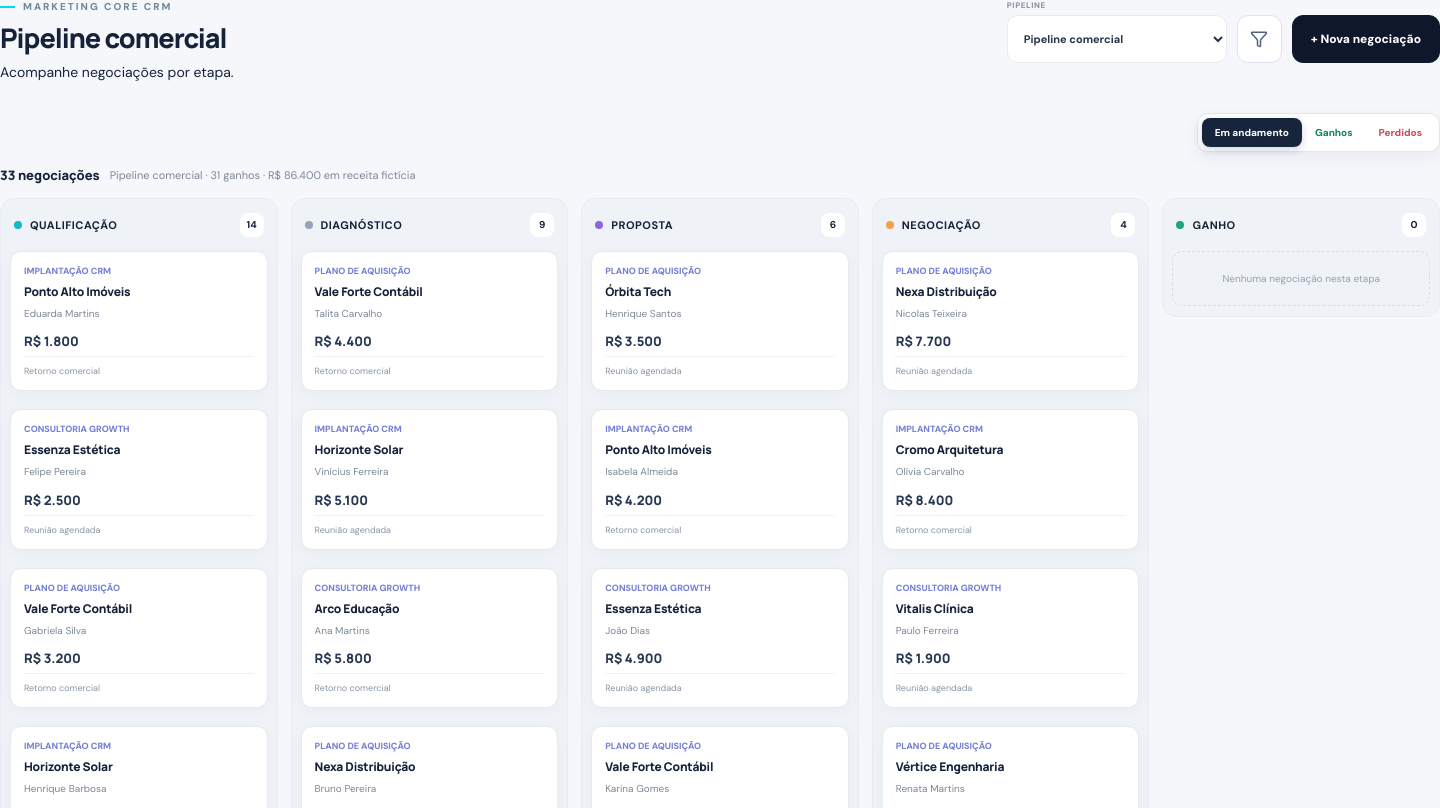
configuração de pipelines › cria um novo lead automaticamente quando telefone e e-mail não existem
Click the button "+ Nova negociação" at (1366, 39), box [1292, 15, 1439, 63]
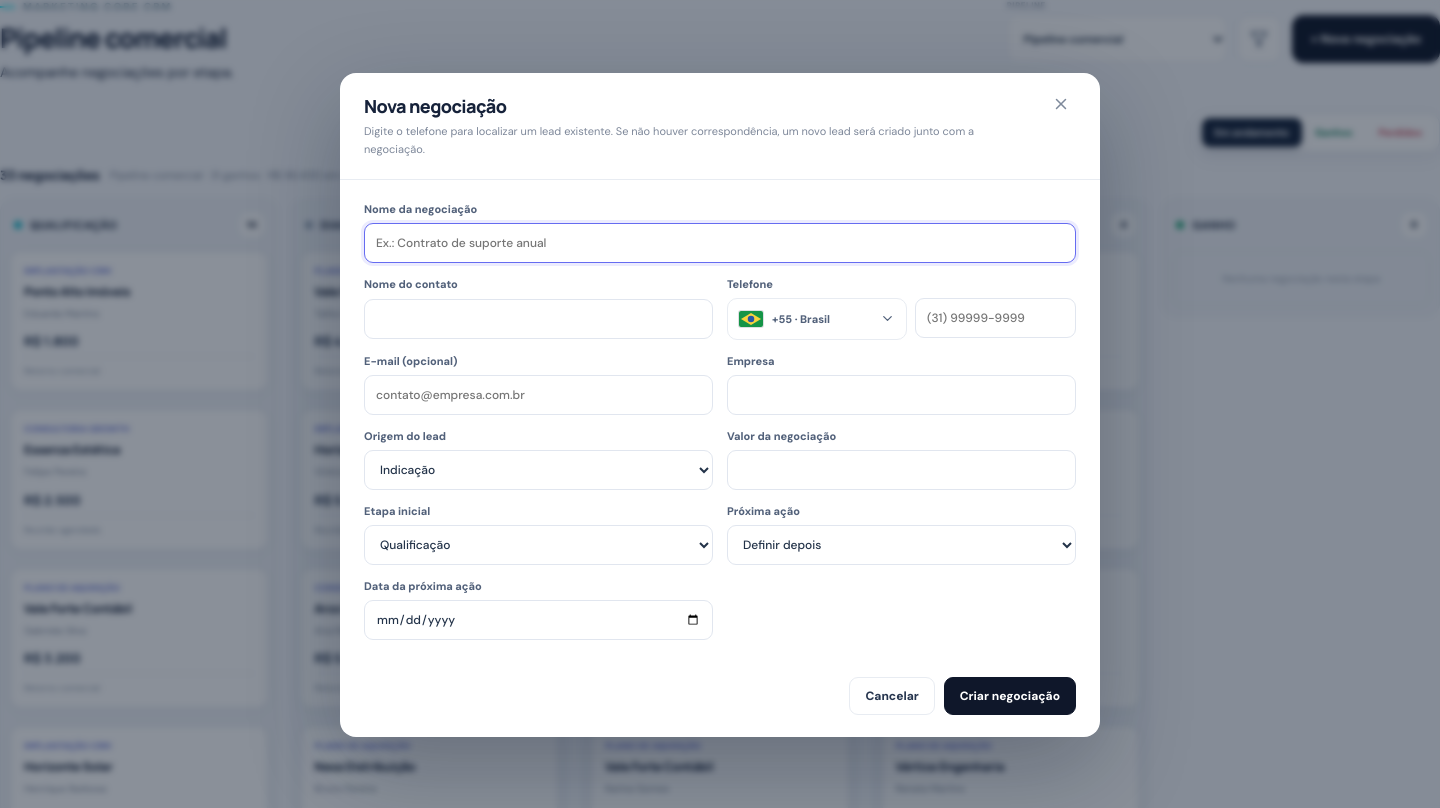
Type "Projeto novo" into the field labelled "Nome da negociação" at (720, 242), box [364, 222, 1076, 262]
Type "Contato Inédito" into the field labelled "Nome do contato" at (538, 318), box [364, 298, 713, 338]
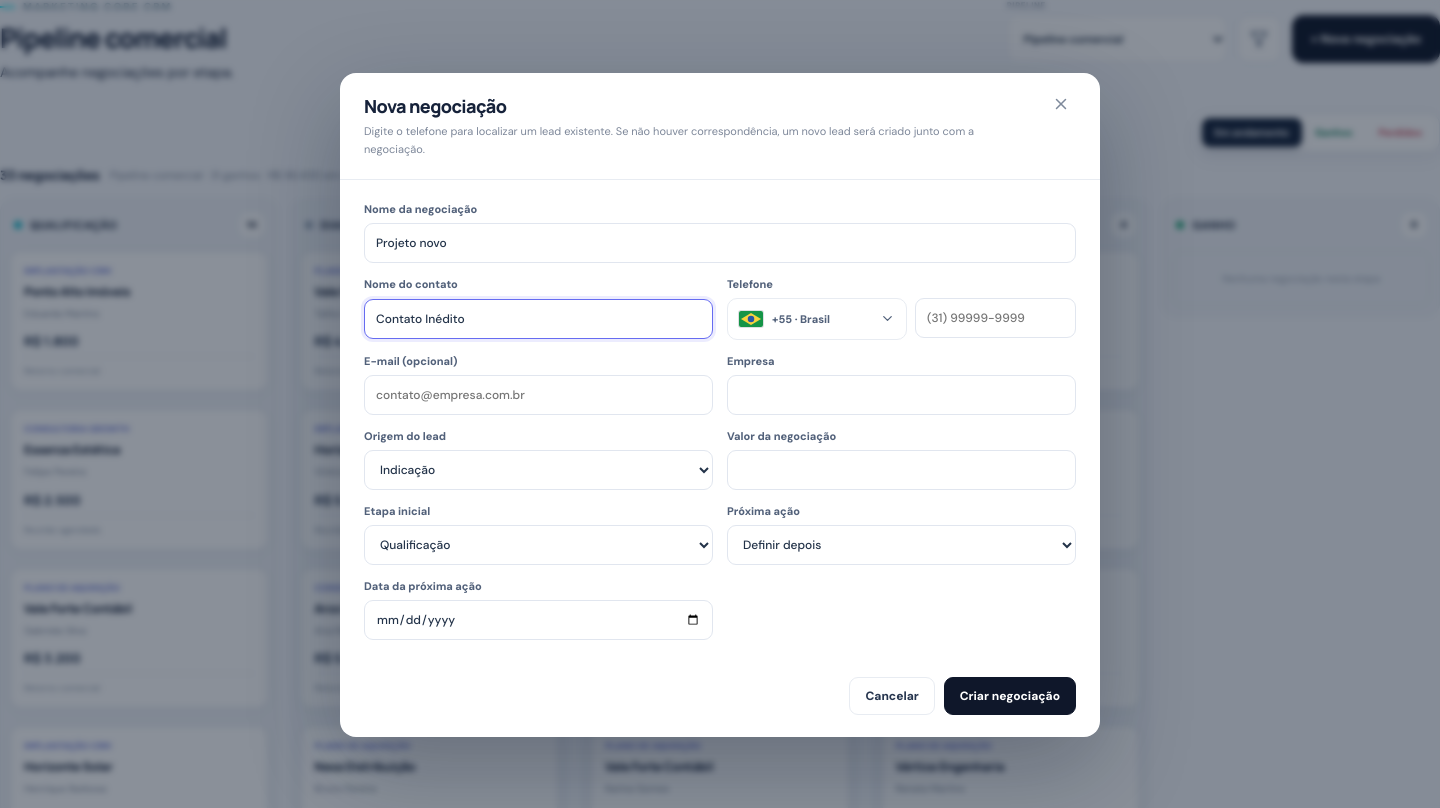
Type "(31) 97777-1234" into the field named "Telefone" at (996, 318), box [915, 298, 1076, 338]
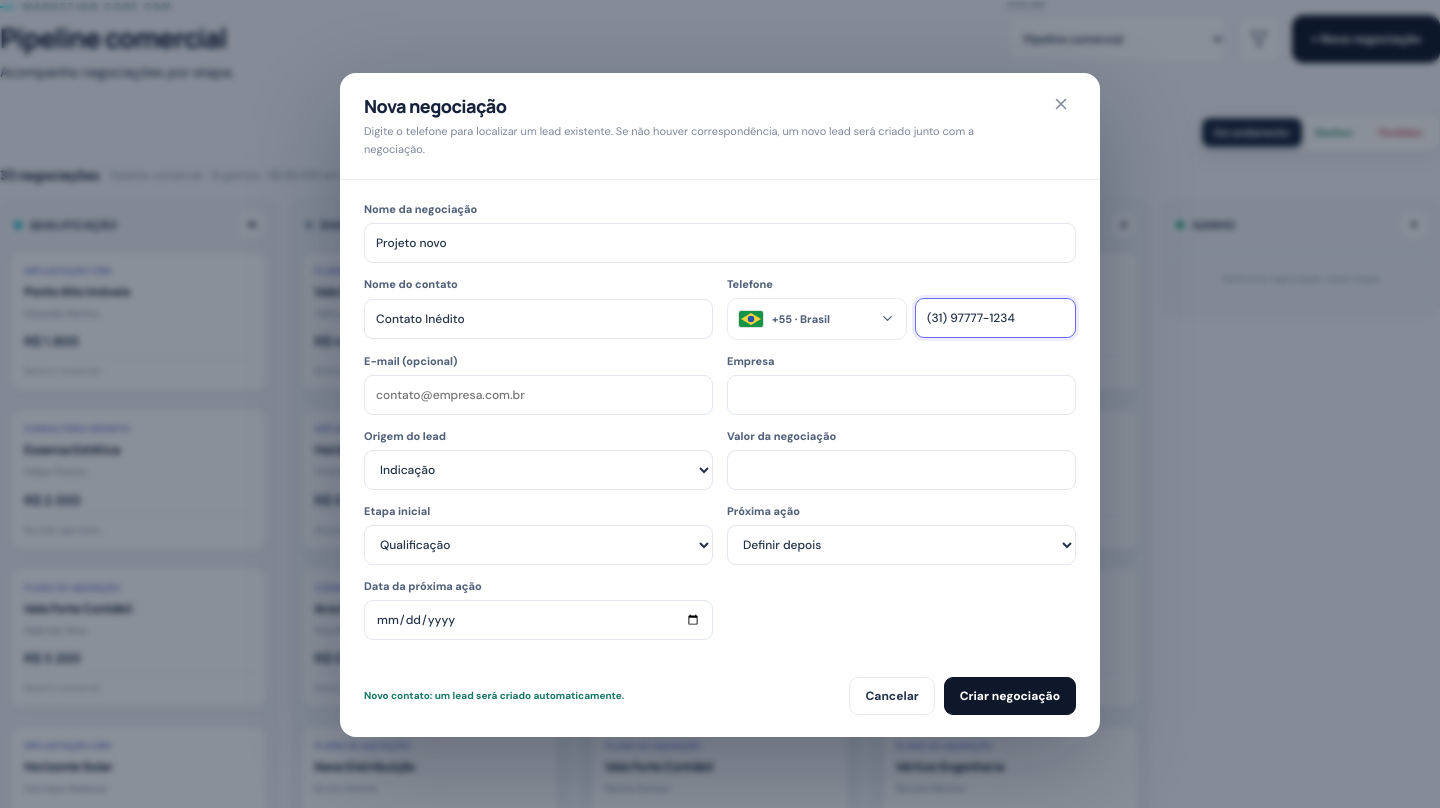
Type "inedito@empresa.com" into the field named "E-mail do contato" at (538, 394), box [364, 374, 713, 414]
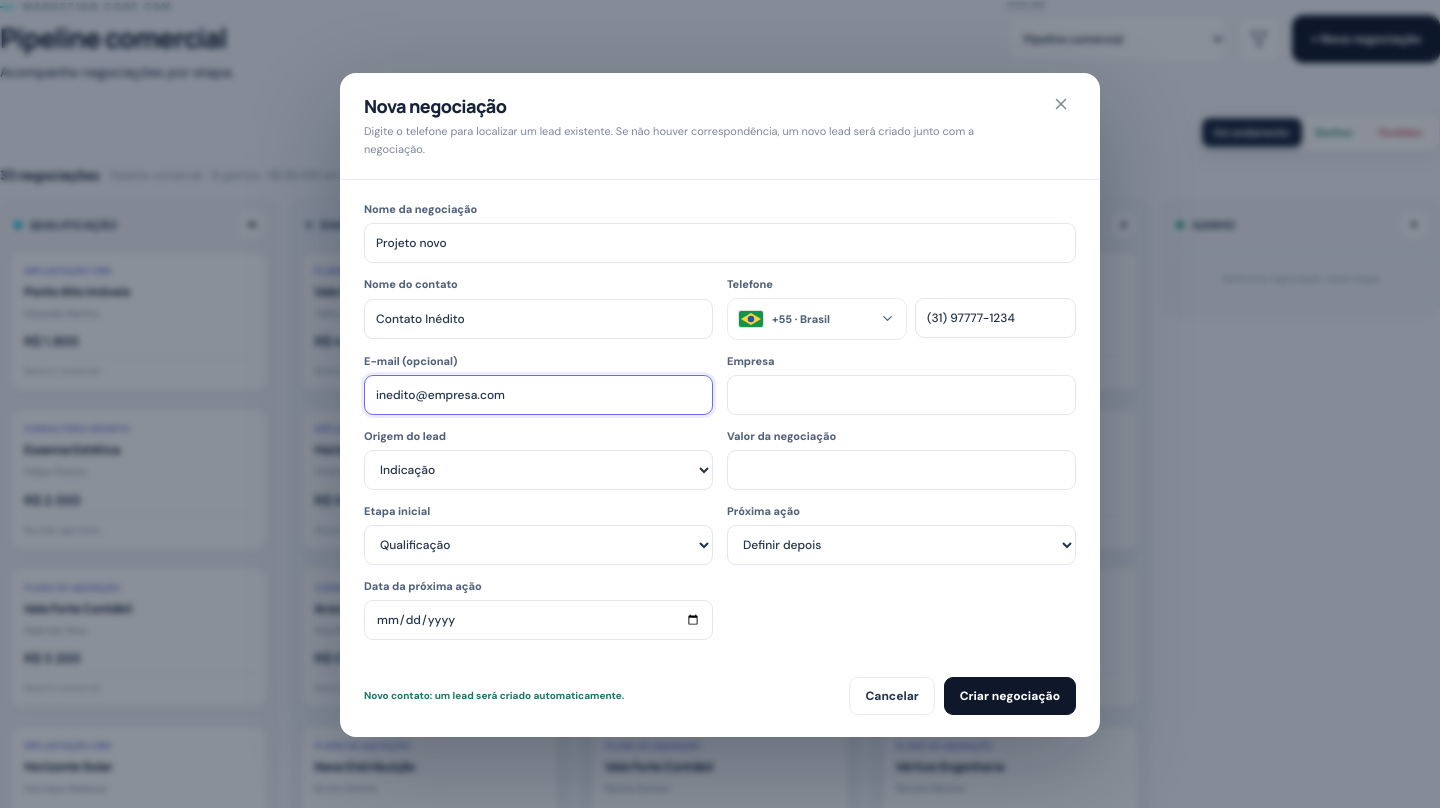
Type "5000" into the number field labelled "Valor da negociação" at (902, 470), box [727, 450, 1076, 490]
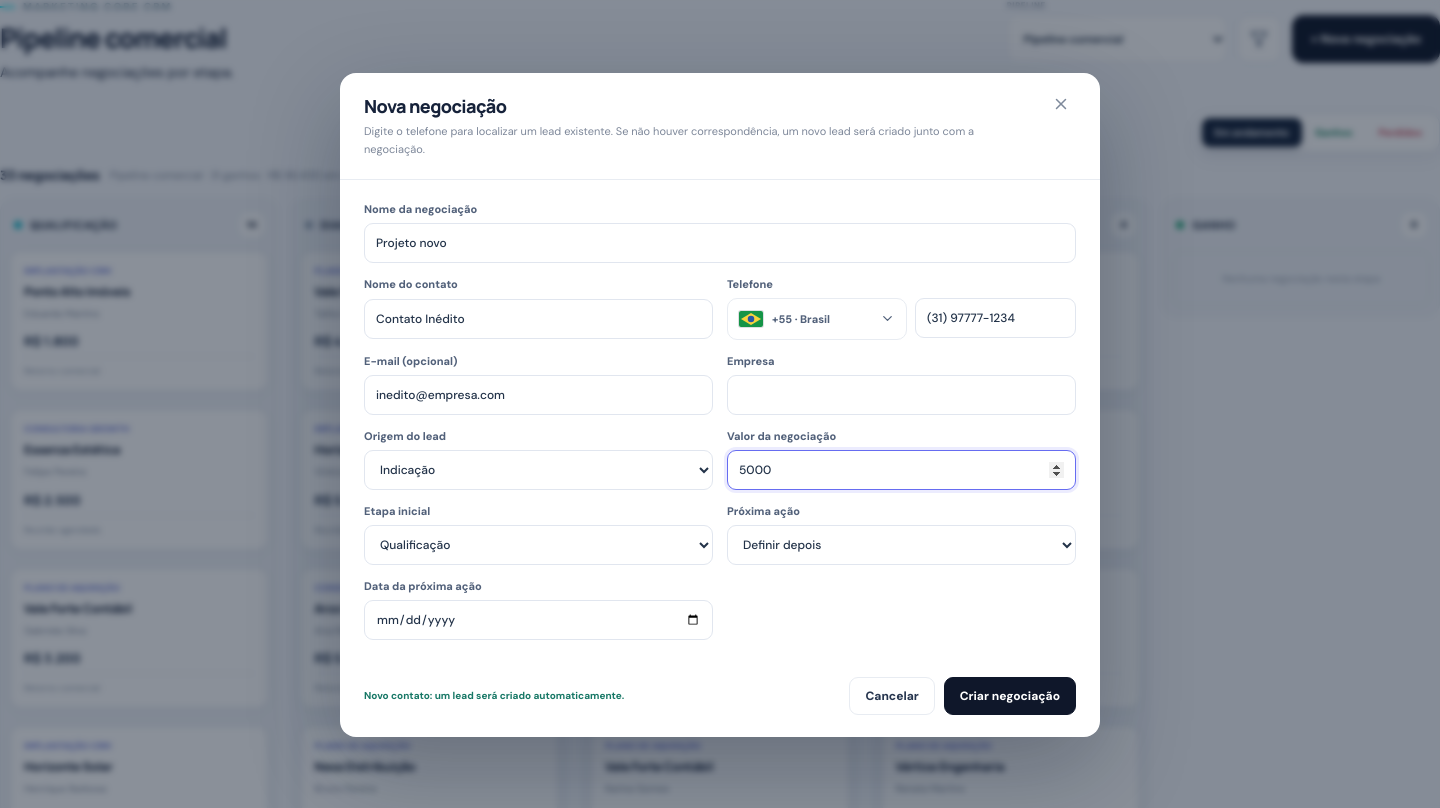
expect the text "Novo contato: um lead será criado automaticamente." is shown: met, box [364, 689, 624, 702]
Click the button "Criar negociação" at (1010, 696), box [944, 676, 1076, 714]
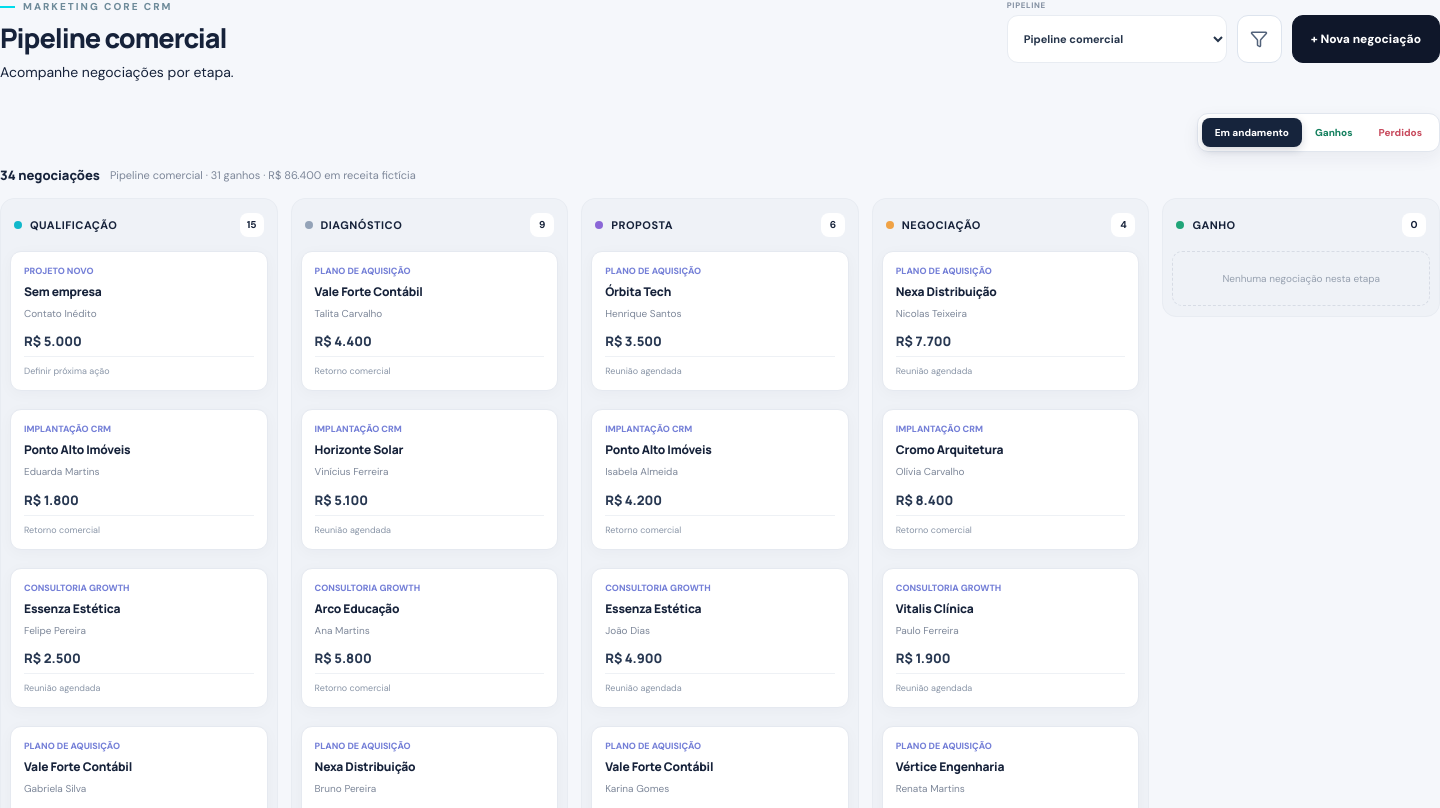
expect the text "Projeto novo" is shown: met, box [24, 265, 94, 277]
